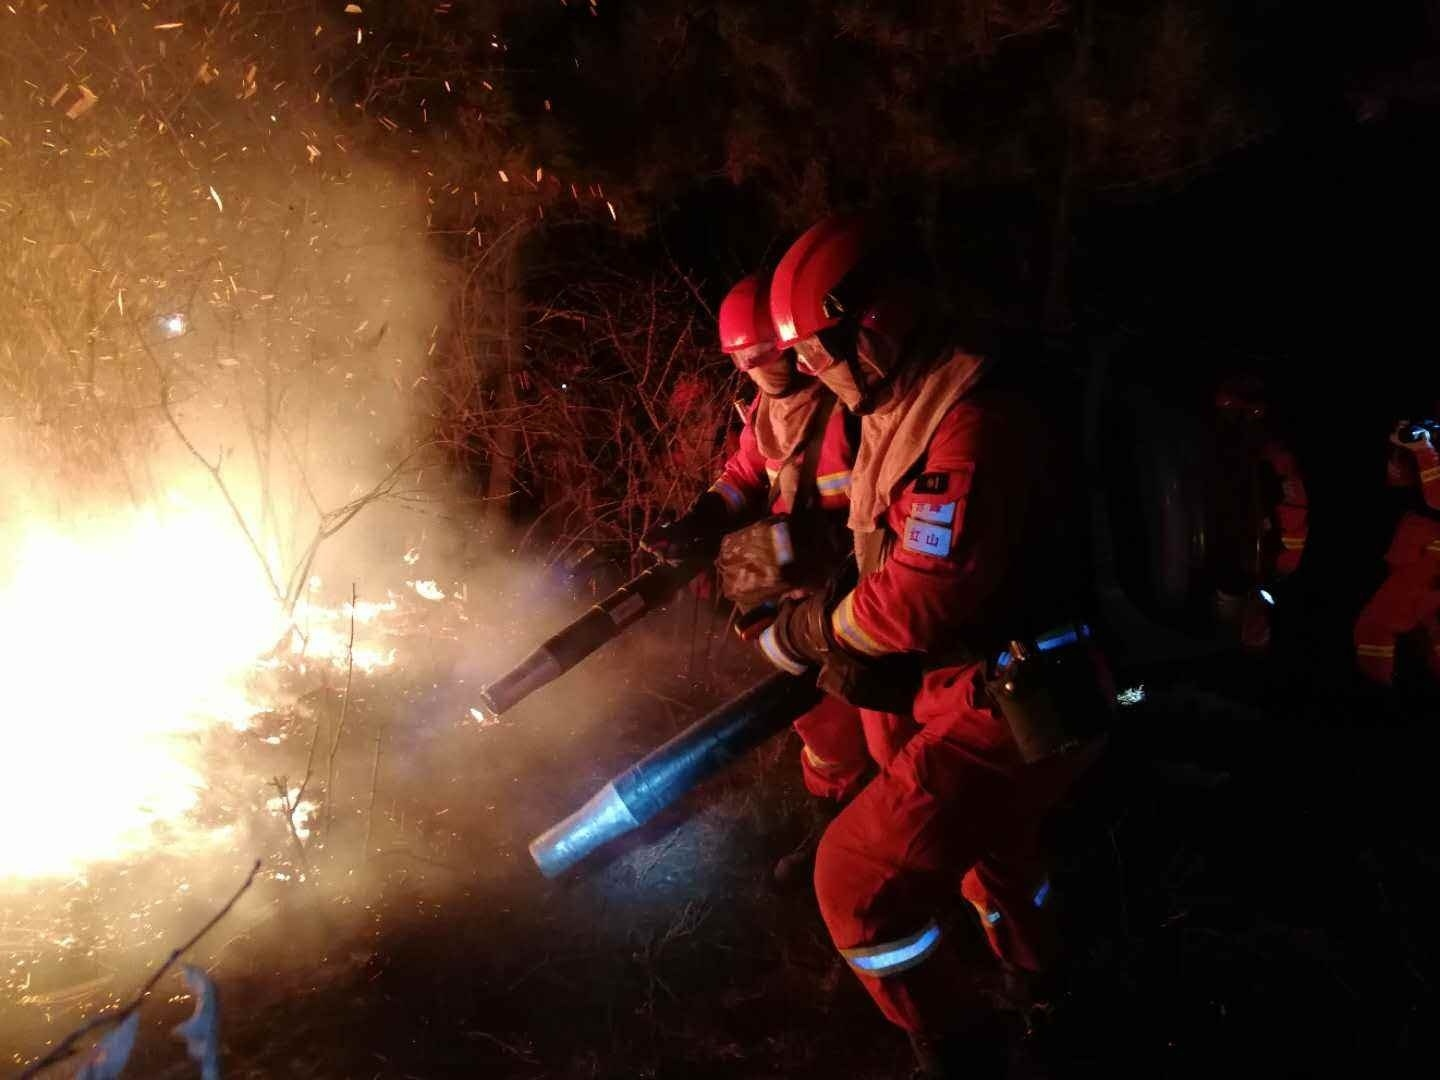fire: (5, 457, 435, 886)
